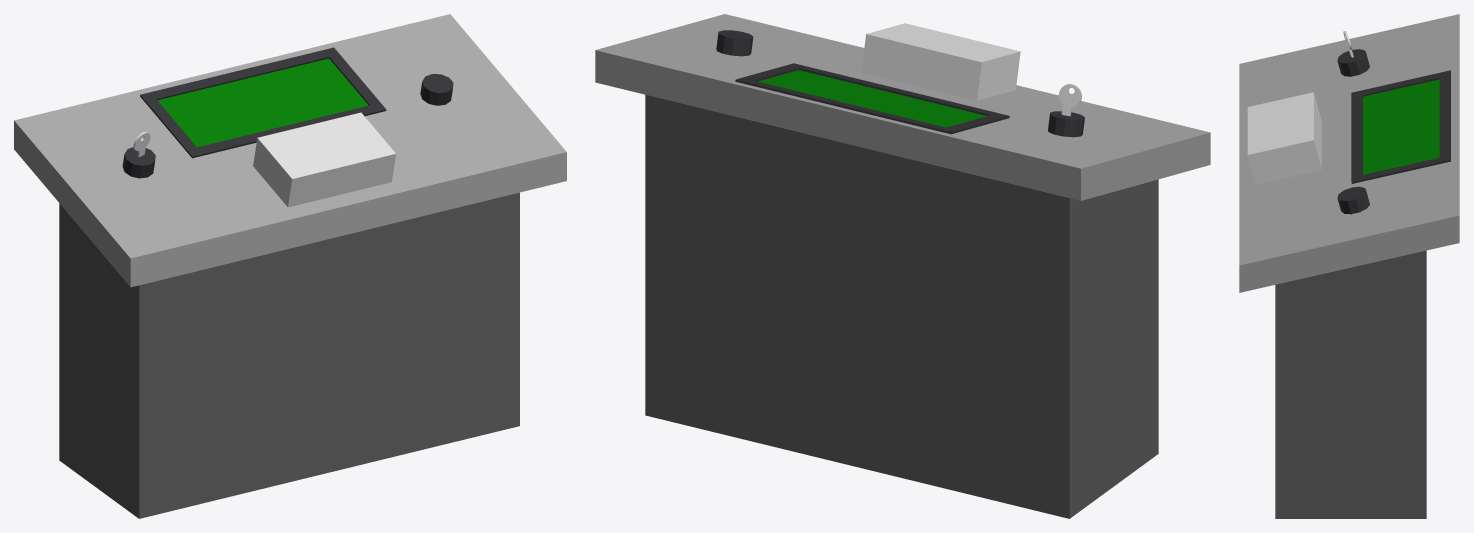
Rendered from Terminal.fbx.
3 views of the same model, side by side, from view 1: azimuth 30°, elevation 25°; view 2: azimuth 150°, elevation 25°; view 3: azimuth 270°, elevation 25° (orthographic). The views are drawn at different scales.
Parts seen in each view (by area): view 1: Terminal, Cover; view 2: Terminal, Cover; view 3: Terminal, Cover.
Boxes of the visible parts, left/top/right/bottom form: Terminal: left=14, top=14, right=566, bottom=518; Cover: left=253, top=112, right=395, bottom=207; Terminal: left=595, top=14, right=1210, bottom=518; Cover: left=861, top=23, right=1020, bottom=100; Terminal: left=1239, top=14, right=1459, bottom=518; Cover: left=1247, top=92, right=1321, bottom=184.
Size of the model in its own units: 12600 by 9629 by 5828.
